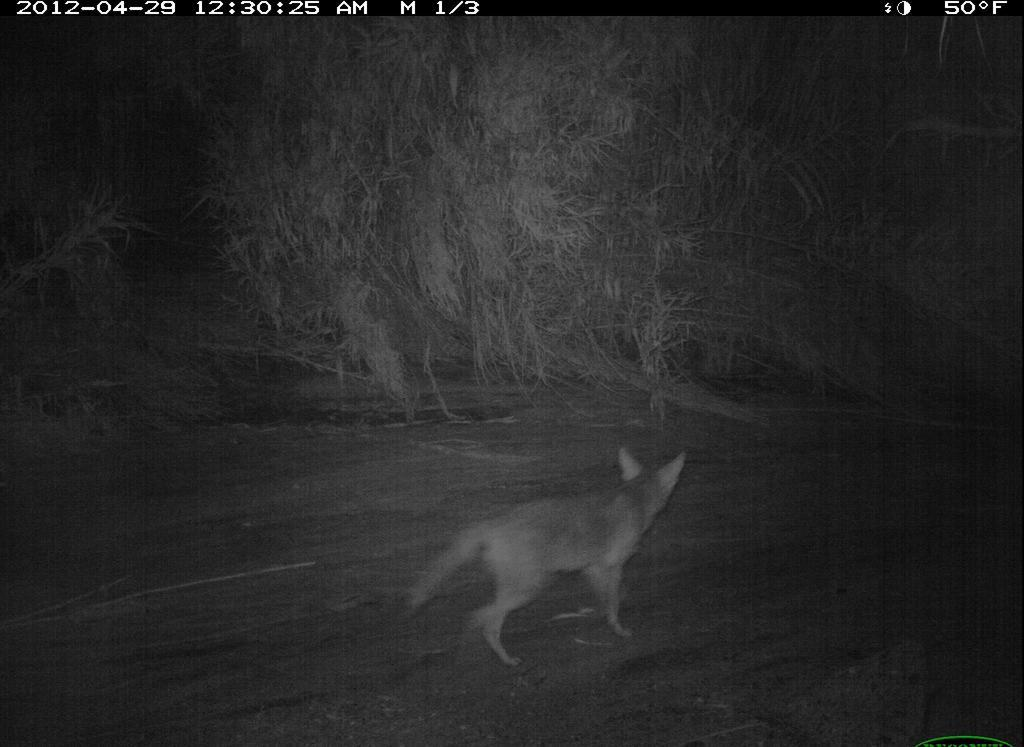coyote: (402, 442, 694, 673)
